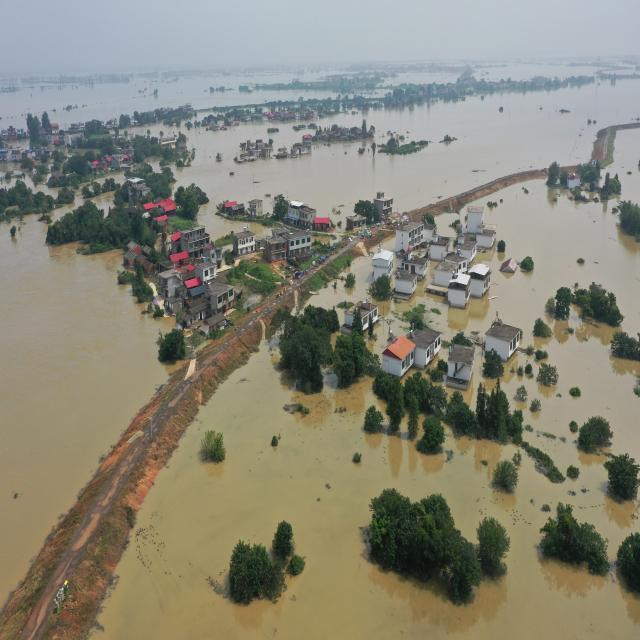flood: (90, 180, 640, 640), (176, 78, 640, 237), (0, 216, 176, 606), (0, 219, 172, 606), (0, 70, 349, 128), (474, 60, 640, 88), (309, 257, 373, 308), (382, 64, 466, 88), (366, 236, 395, 256)
house: (484, 319, 522, 362), (446, 340, 476, 390), (167, 226, 213, 258), (383, 334, 417, 377), (282, 196, 316, 228), (417, 325, 442, 364), (446, 275, 475, 306), (431, 208, 458, 240), (210, 280, 236, 312), (348, 302, 379, 328), (284, 231, 314, 256), (428, 264, 456, 290), (462, 203, 484, 233), (466, 266, 489, 294), (402, 222, 424, 250), (402, 256, 429, 278), (375, 191, 394, 219), (397, 272, 418, 296), (234, 230, 254, 255), (458, 240, 478, 260), (430, 242, 450, 260), (187, 278, 205, 298), (224, 200, 246, 213), (250, 199, 264, 217)
